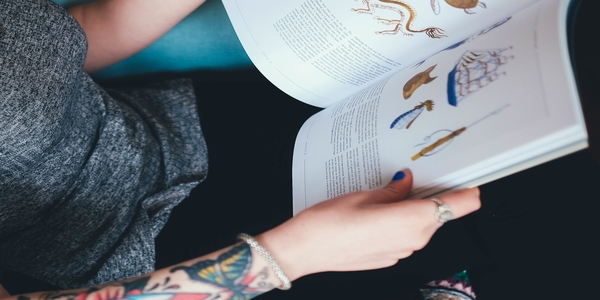Open Book: (211, 1, 590, 227)
